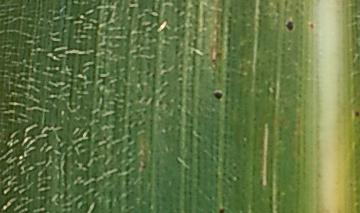tarspot: (209, 86, 225, 102), (283, 18, 297, 32), (349, 105, 360, 122), (215, 202, 227, 213)
